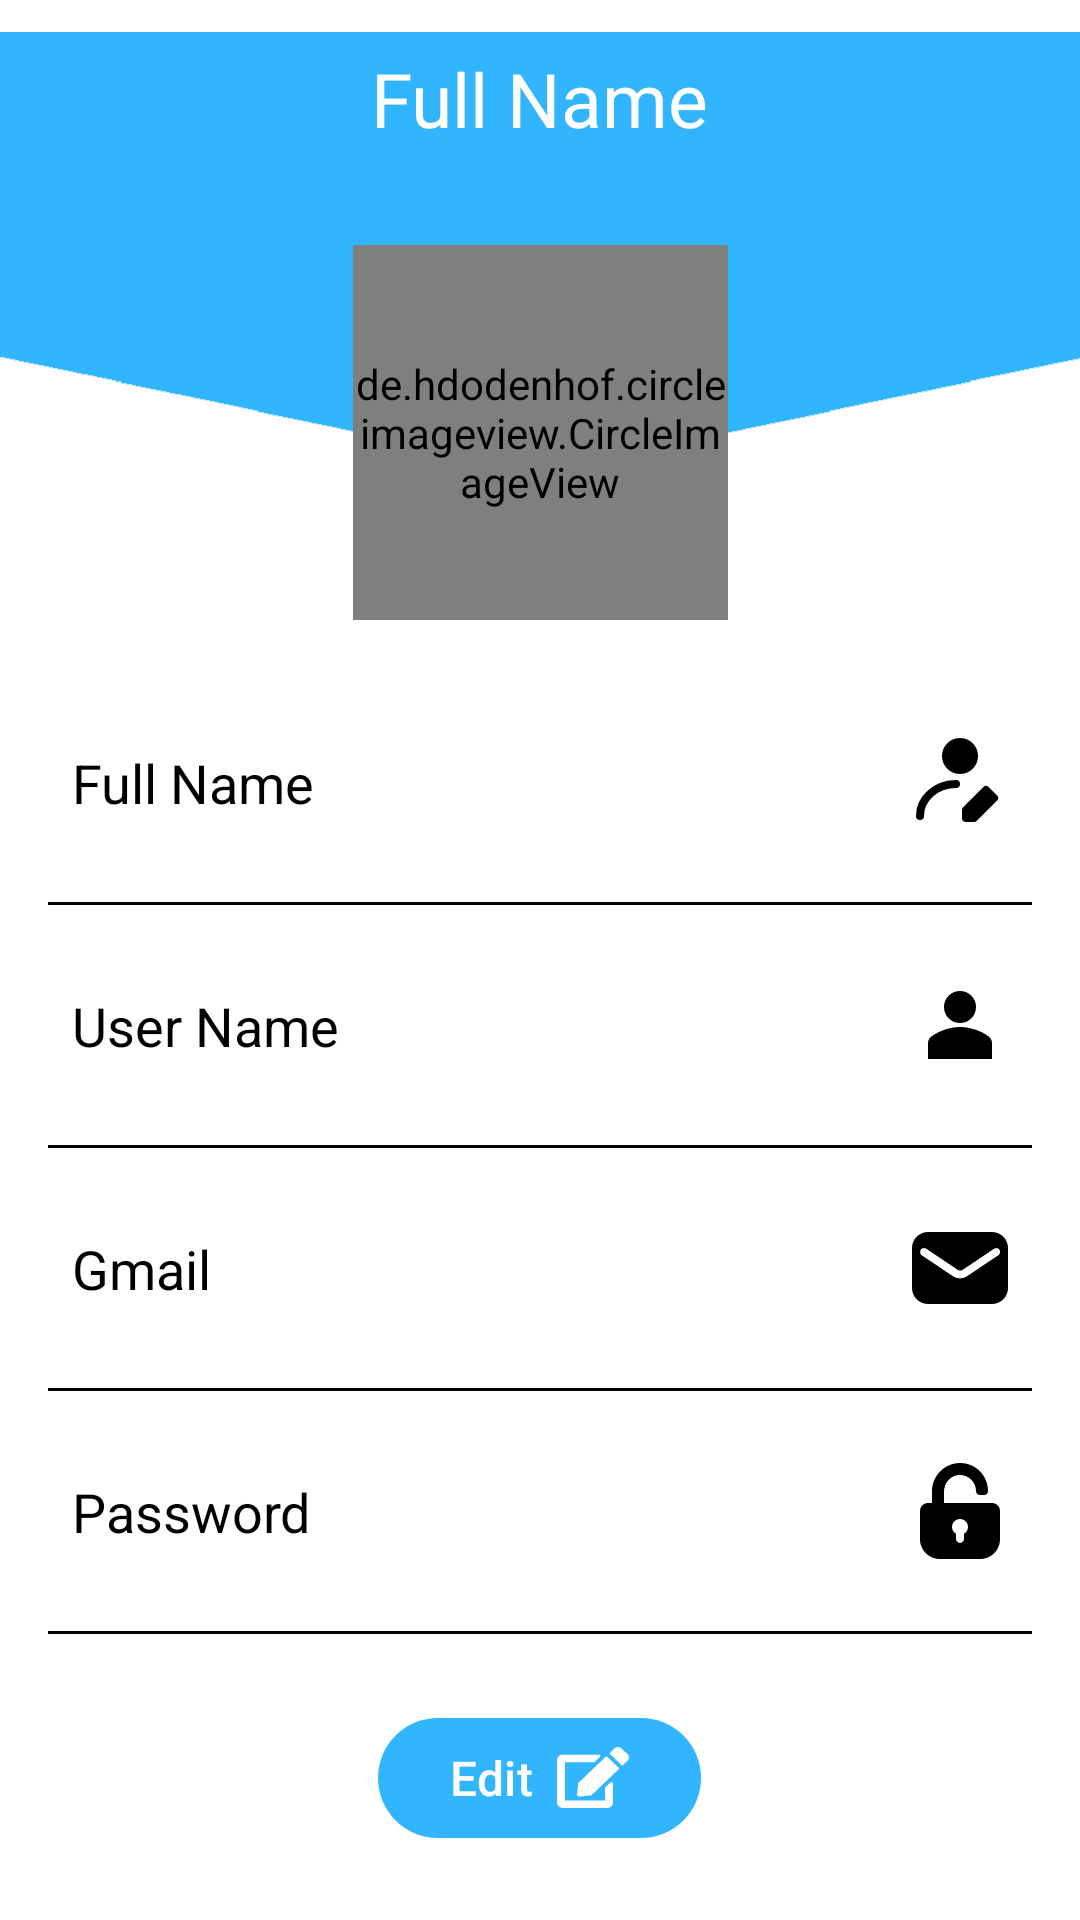

Point at icon controls on the screen. Image size 1080w x 1920h, points as (x=x, y=y).
full name: (x=957, y=780)
gmail: (x=960, y=1268)
password: (x=960, y=1511)
